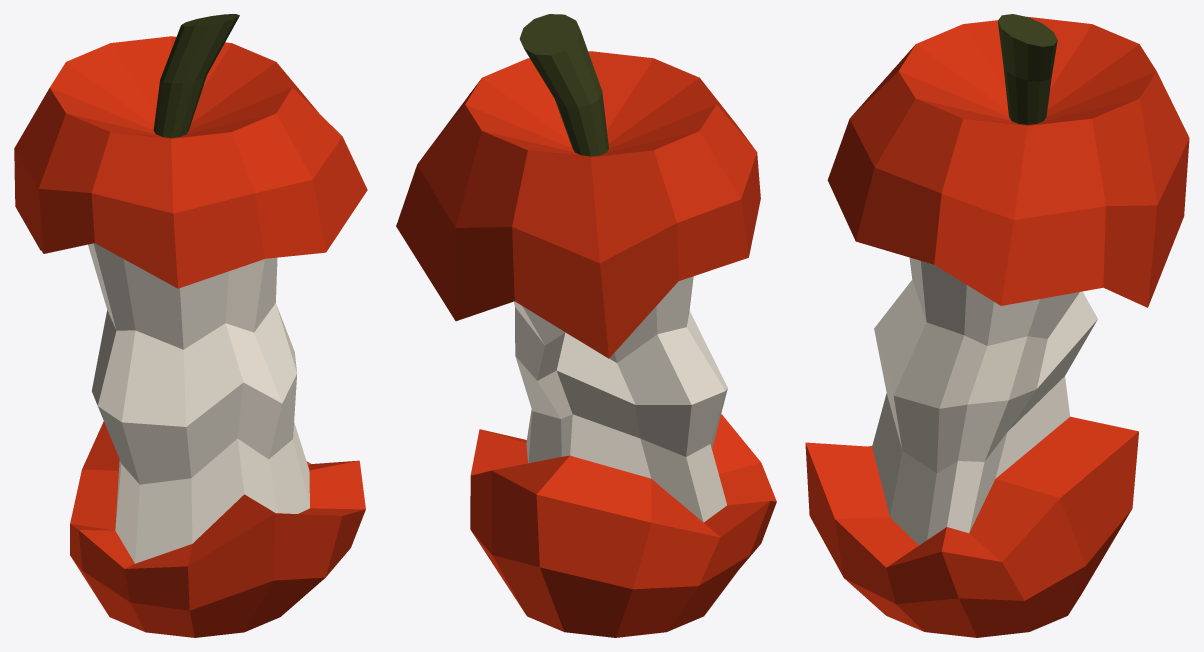
Rendered from Trash_Apple_01.fbx.
3 renders of one model, left to right at view 1: azimuth 30°, elevation 25°; view 2: azimuth 150°, elevation 25°; view 3: azimuth 270°, elevation 25°, orthographic. The views are drawn at different scales.
Visible parts, largest first — view 1: Apple_00; view 2: Apple_00; view 3: Apple_00.
Boxes of the visible parts, box(x1,y1,x2,y2) form: Apple_00: box(14, 14, 367, 637); Apple_00: box(396, 14, 776, 637); Apple_00: box(805, 14, 1189, 637).
Bounding box in the file's own units: 11.43 × 19.5 × 11.44.
1 material, 1 textured.
